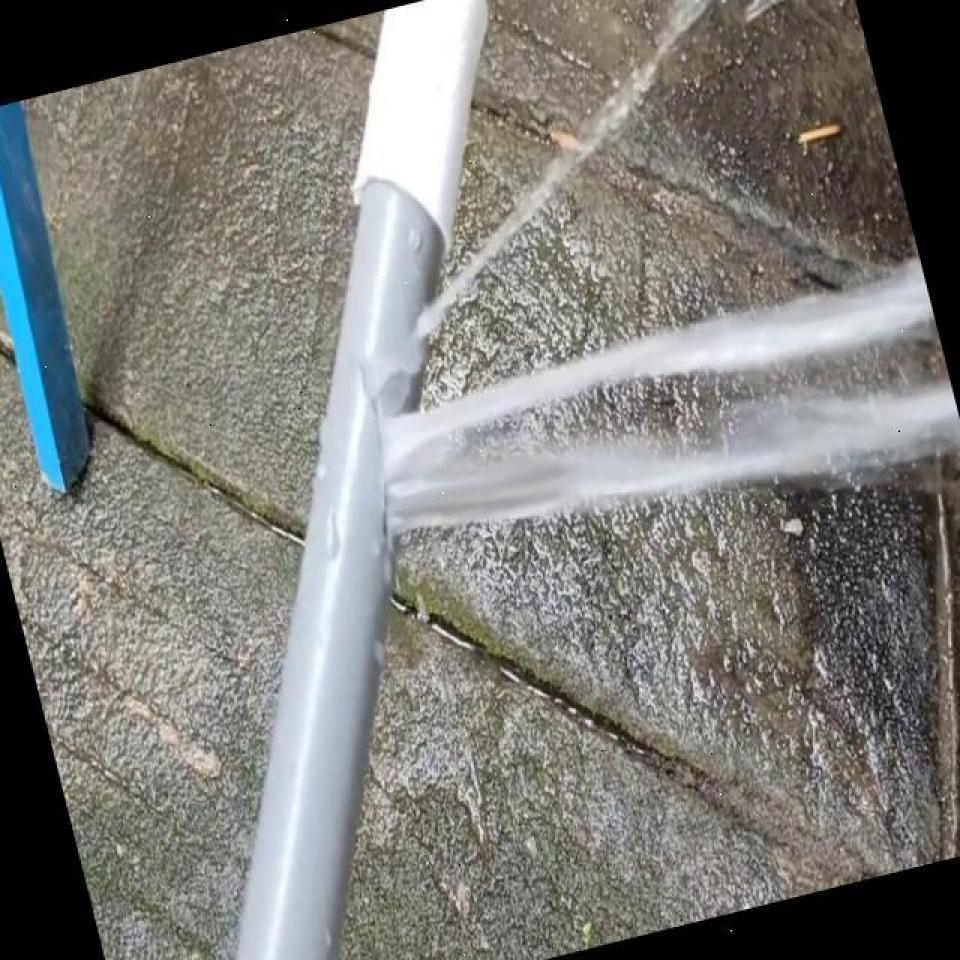pipe burst: (363, 264, 960, 543), (405, 0, 715, 356)
